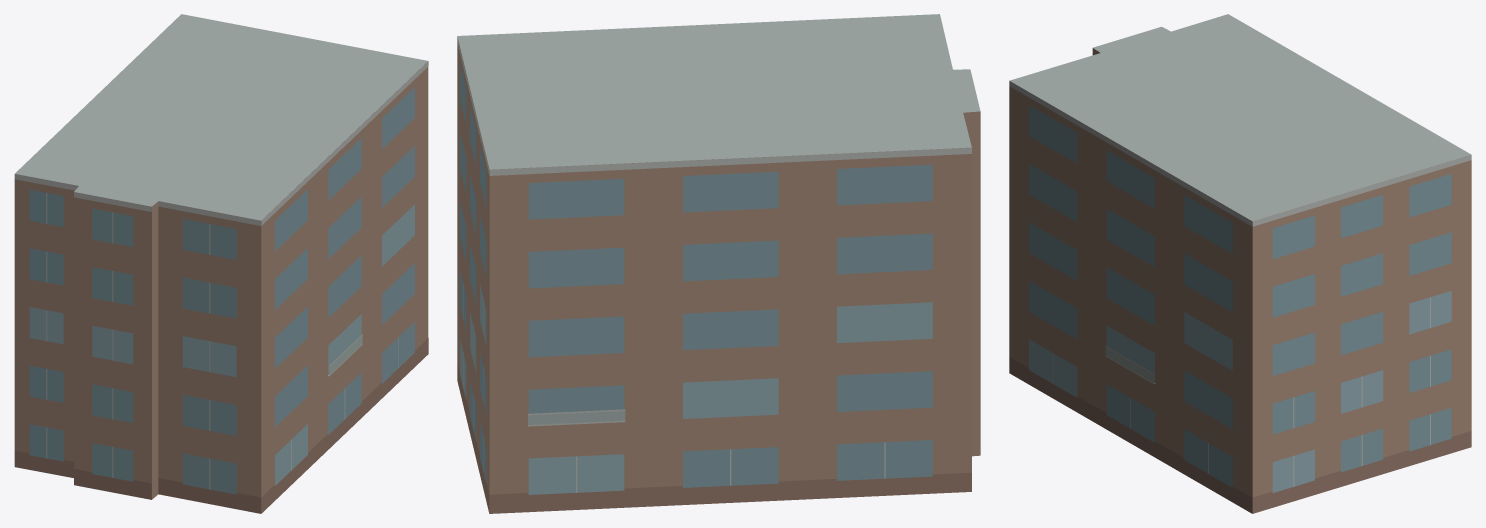
Rendered from survey-upis-32849590.glb.
3 renders of one model, left to right at view 1: azimuth 30°, elevation 25°; view 2: azimuth 150°, elevation 25°; view 3: azimuth 270°, elevation 25°, orthographic. The views are drawn at different scales.
Visible parts, largest first — view 1: survey-upis-32849590.tmp; view 2: survey-upis-32849590.tmp; view 3: survey-upis-32849590.tmp.
Boxes of the visible parts, x1,y1,x2,y2 form: survey-upis-32849590.tmp: [14, 14, 428, 513]; survey-upis-32849590.tmp: [457, 14, 980, 513]; survey-upis-32849590.tmp: [1009, 14, 1471, 513].
Size of the model in its own units: 20.08 by 13.2 by 18.92.
